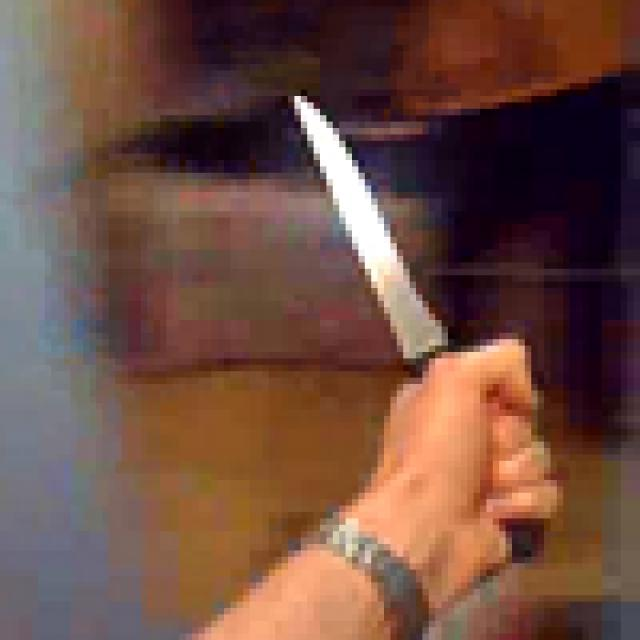Weapons: (264, 69, 575, 589)
